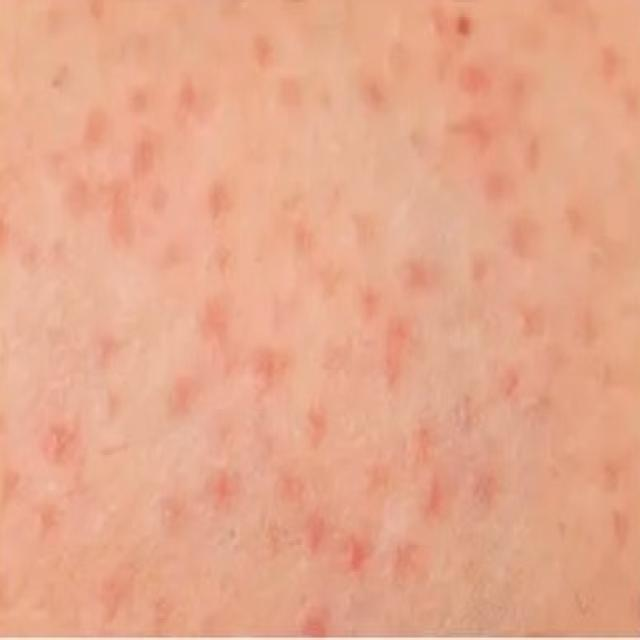fungal: (25, 69, 625, 630)
